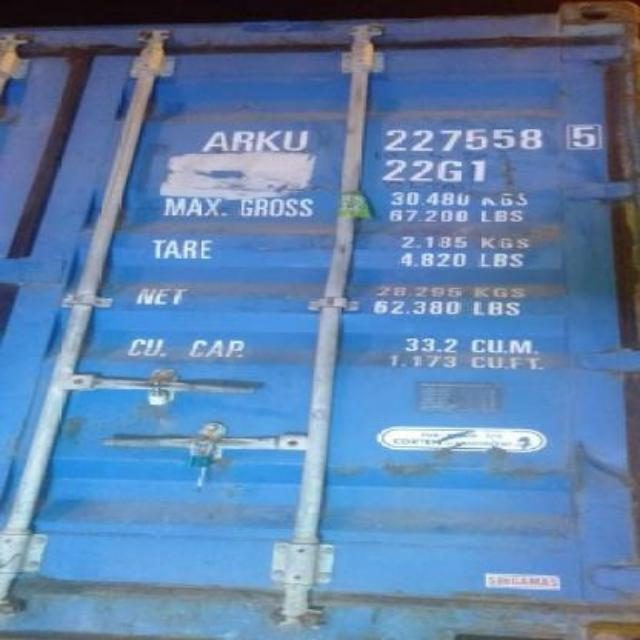2: (380, 122, 410, 154), (410, 120, 434, 154)
5: (564, 122, 602, 150), (462, 121, 490, 153), (490, 120, 516, 152)
7: (432, 121, 462, 153)
8: (516, 118, 544, 158)
A: (204, 126, 230, 154)
K: (254, 122, 278, 154)
R: (230, 124, 256, 154)
U: (284, 126, 308, 152)
